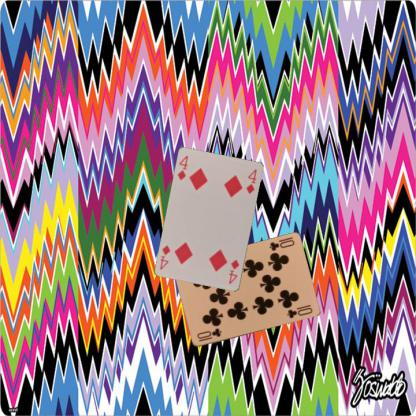10c: (194, 326, 223, 343), (266, 238, 296, 252)
4d: (226, 257, 241, 286), (175, 153, 189, 182)
